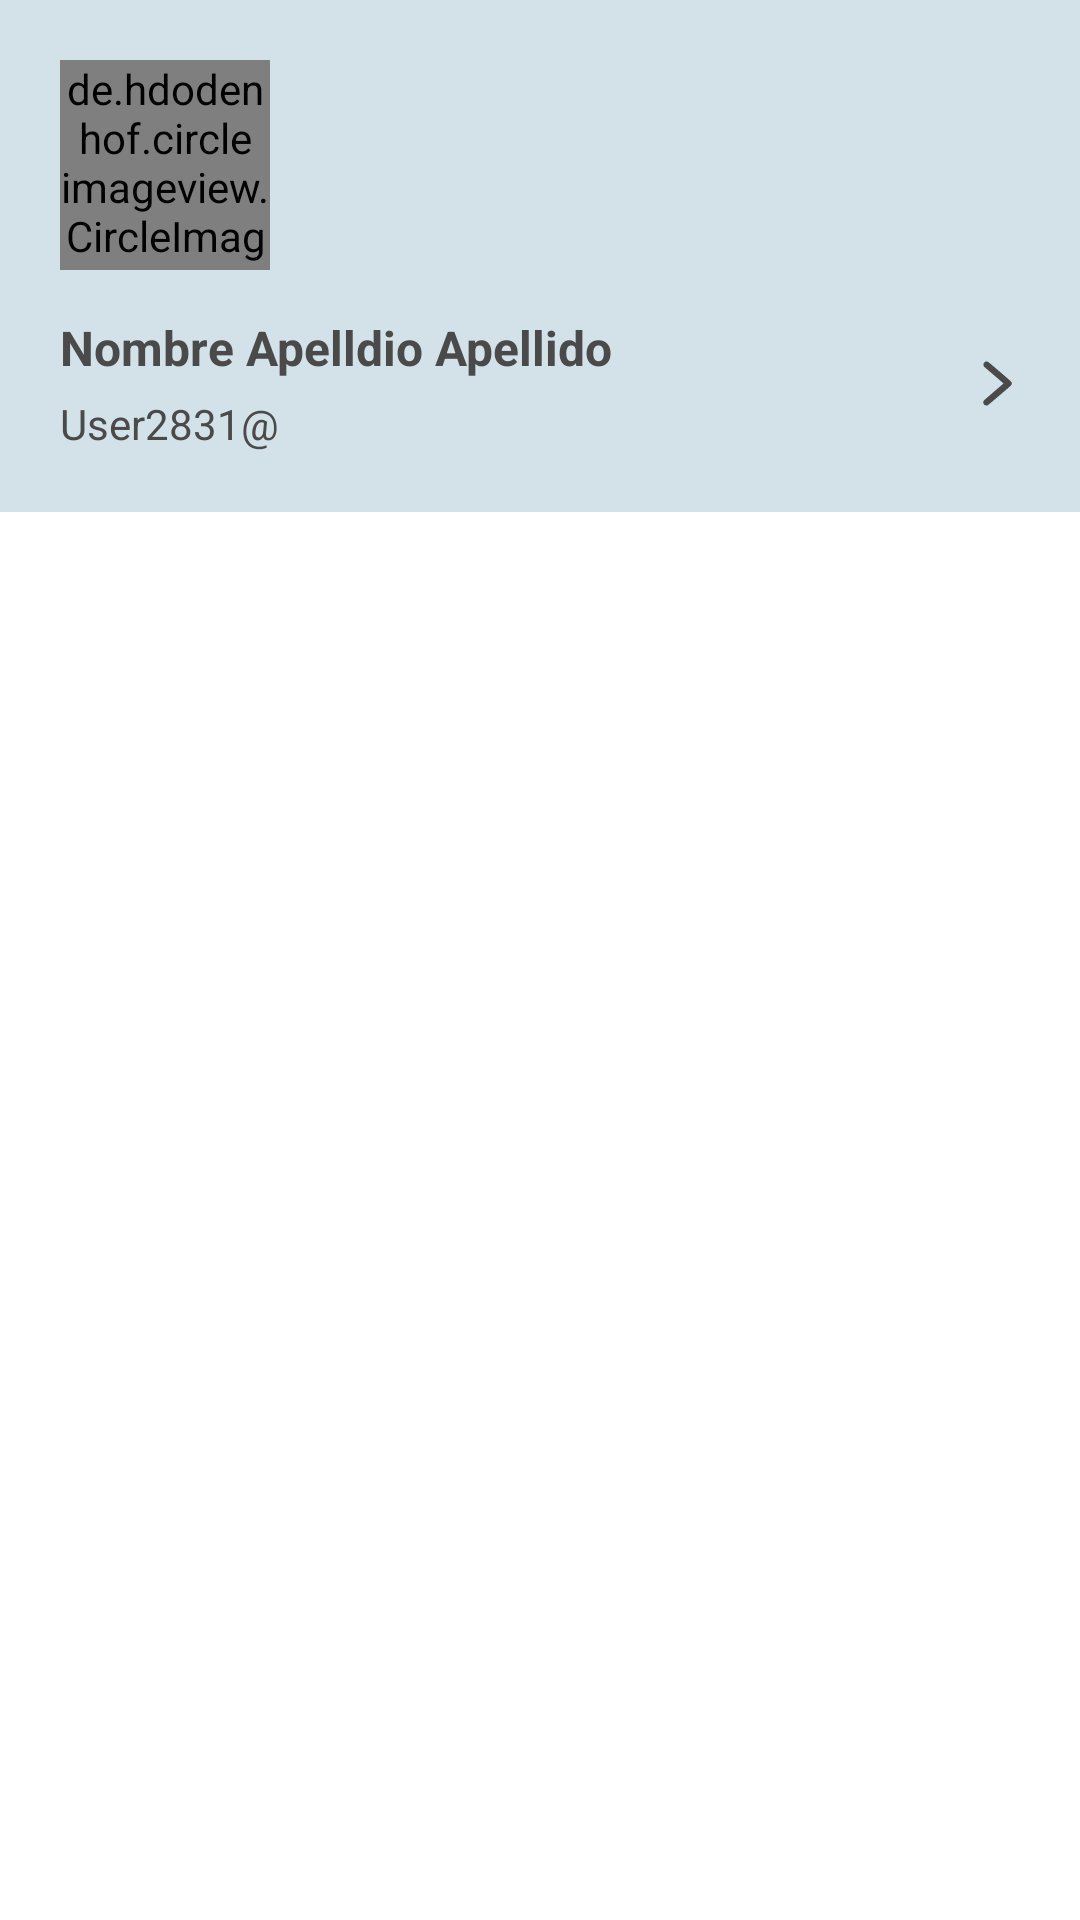

Named icons in this screenshot (1080 × 1920) and their centers, (x,y):
next: (997,383)
